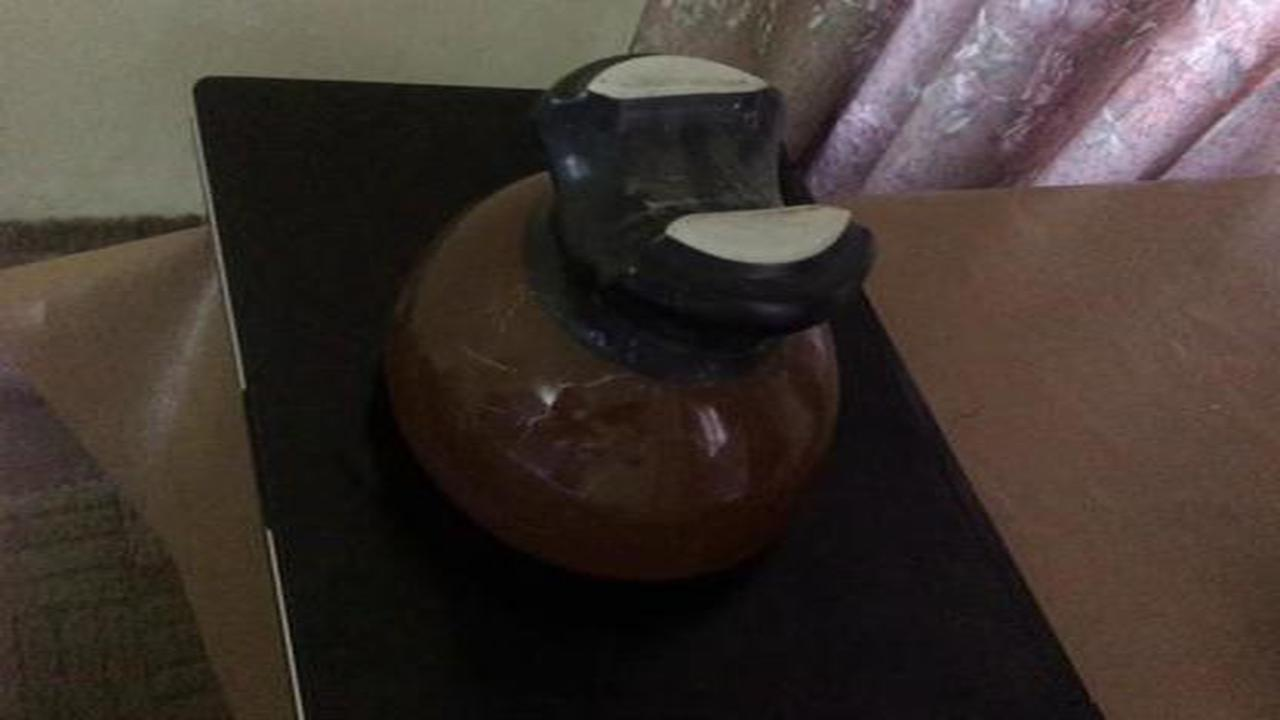insulator_pin: (364, 39, 881, 606)
